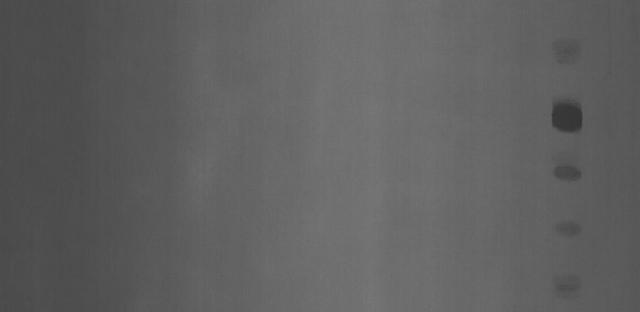oil_spot: (539, 91, 589, 142), (544, 272, 590, 306), (546, 37, 585, 67), (546, 217, 584, 245), (545, 159, 583, 187)
